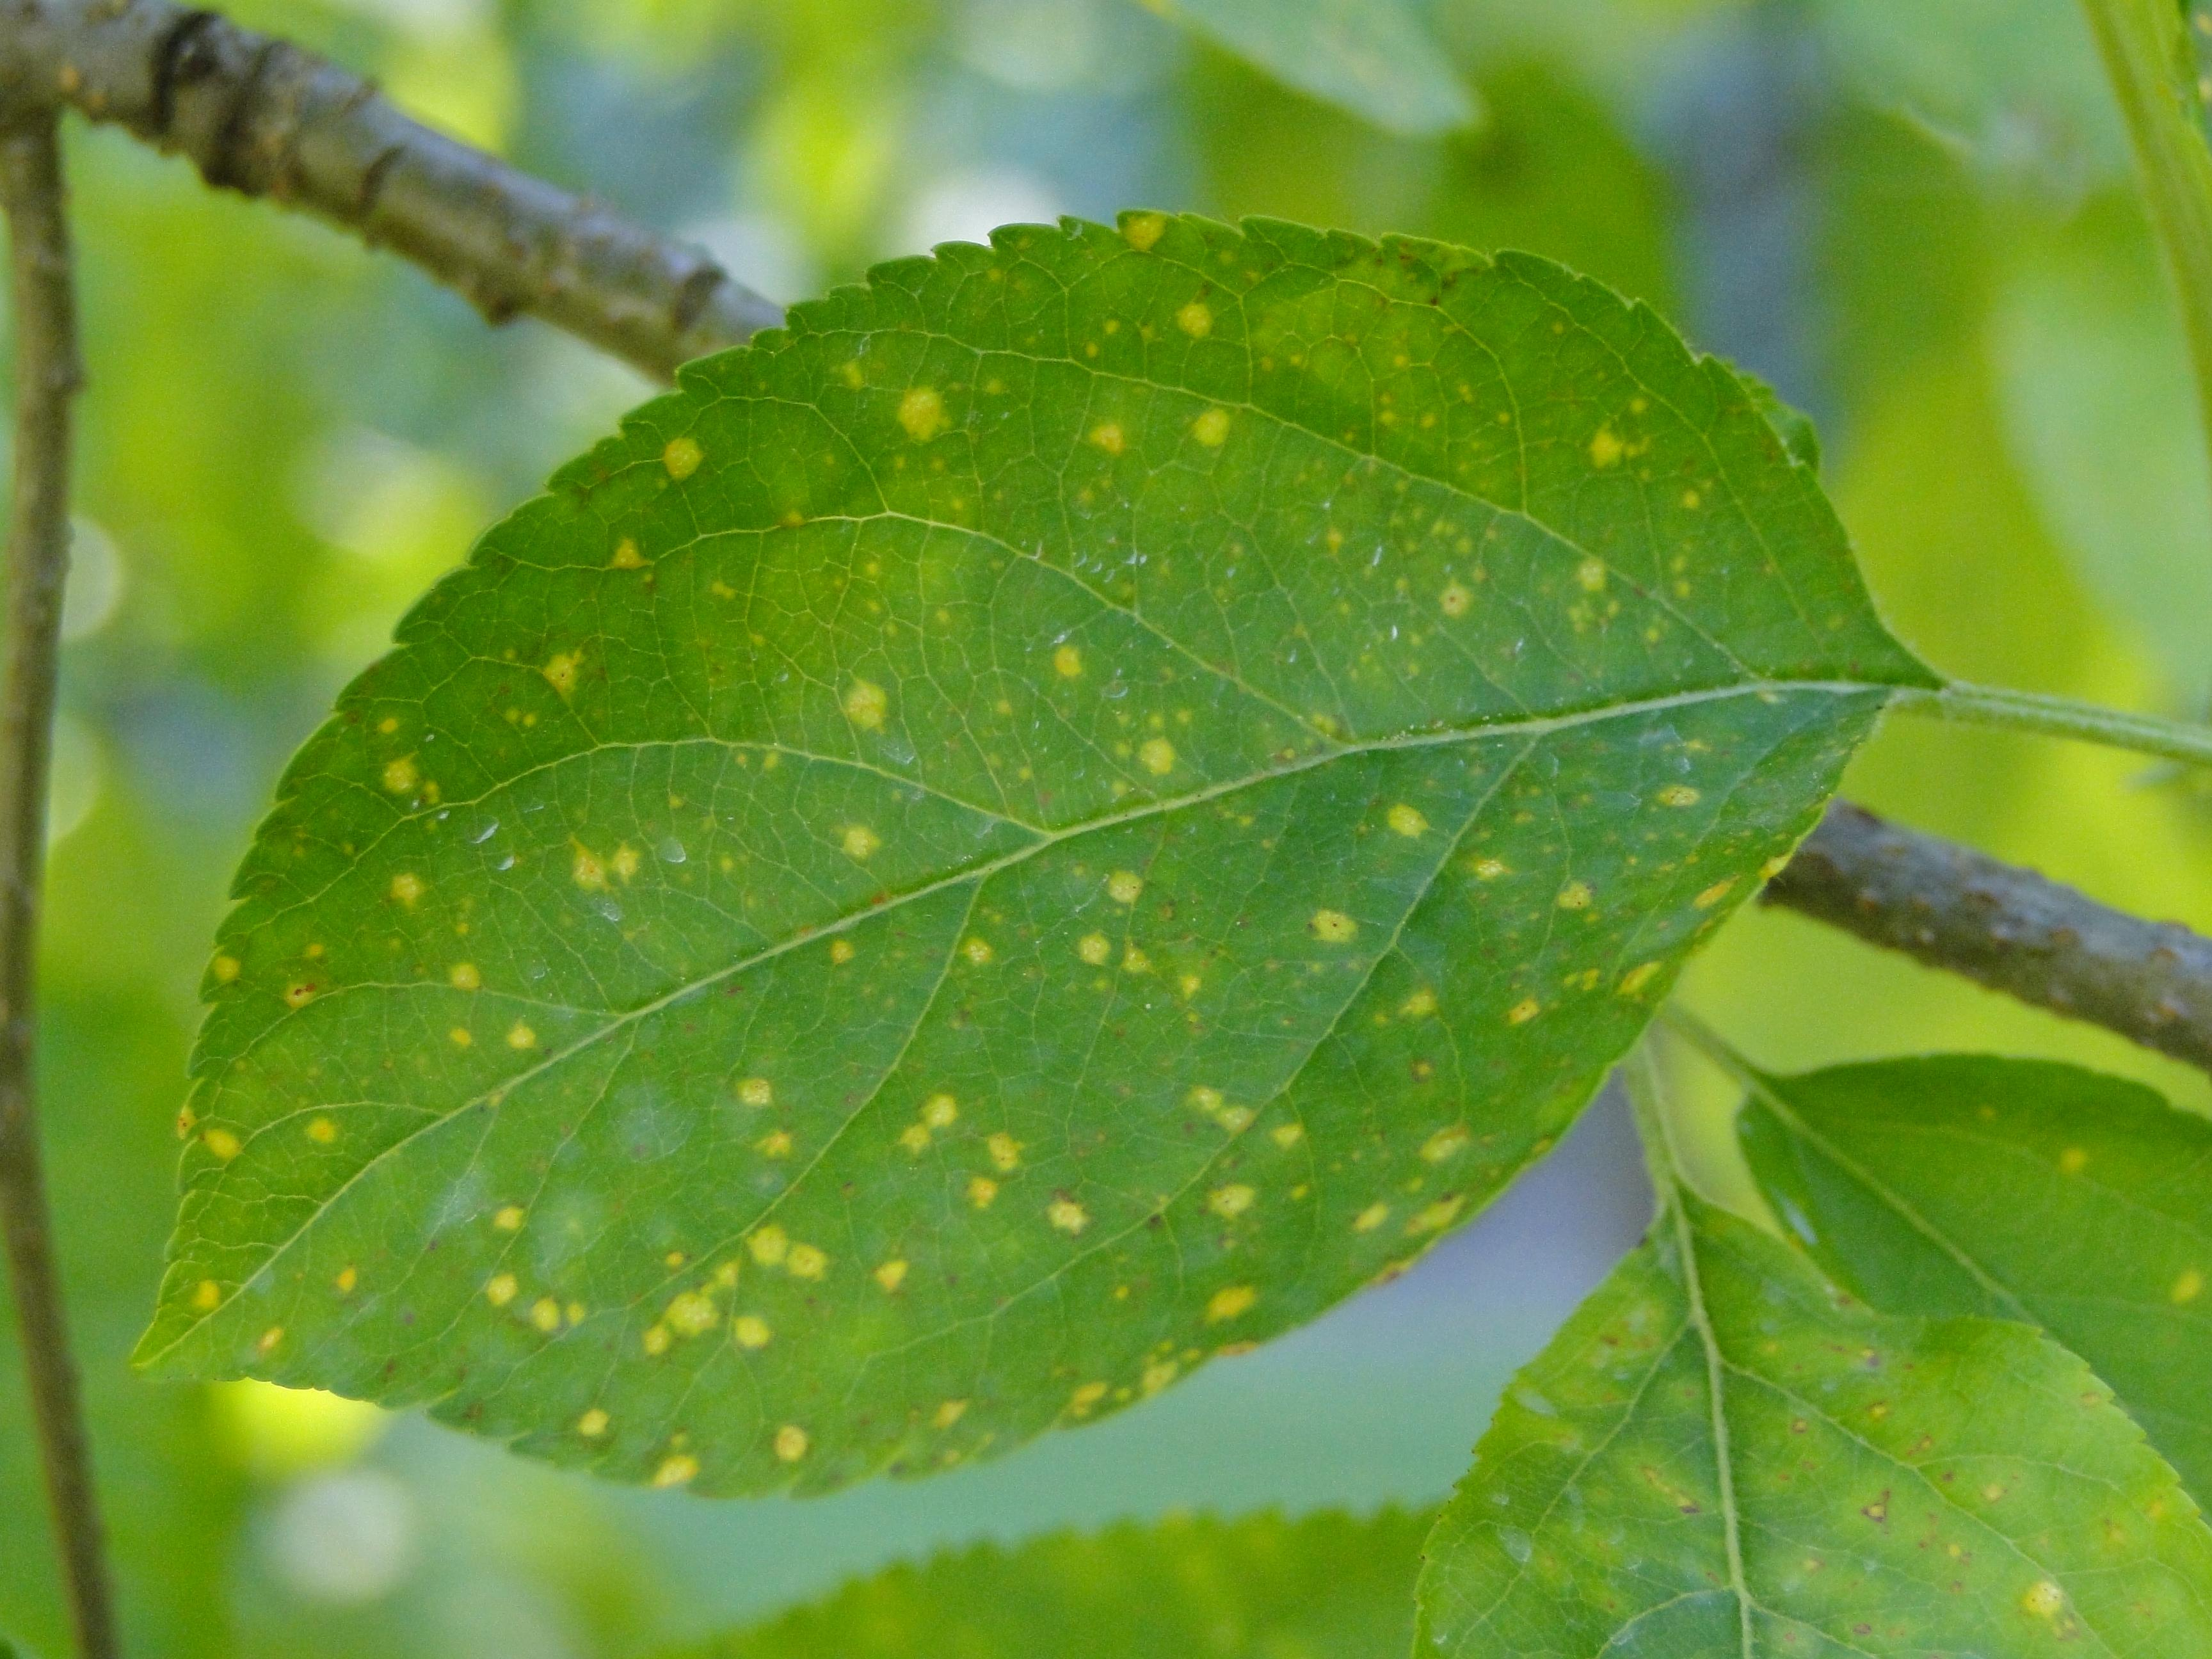Apple rust leaf: (125, 190, 2006, 1528)
